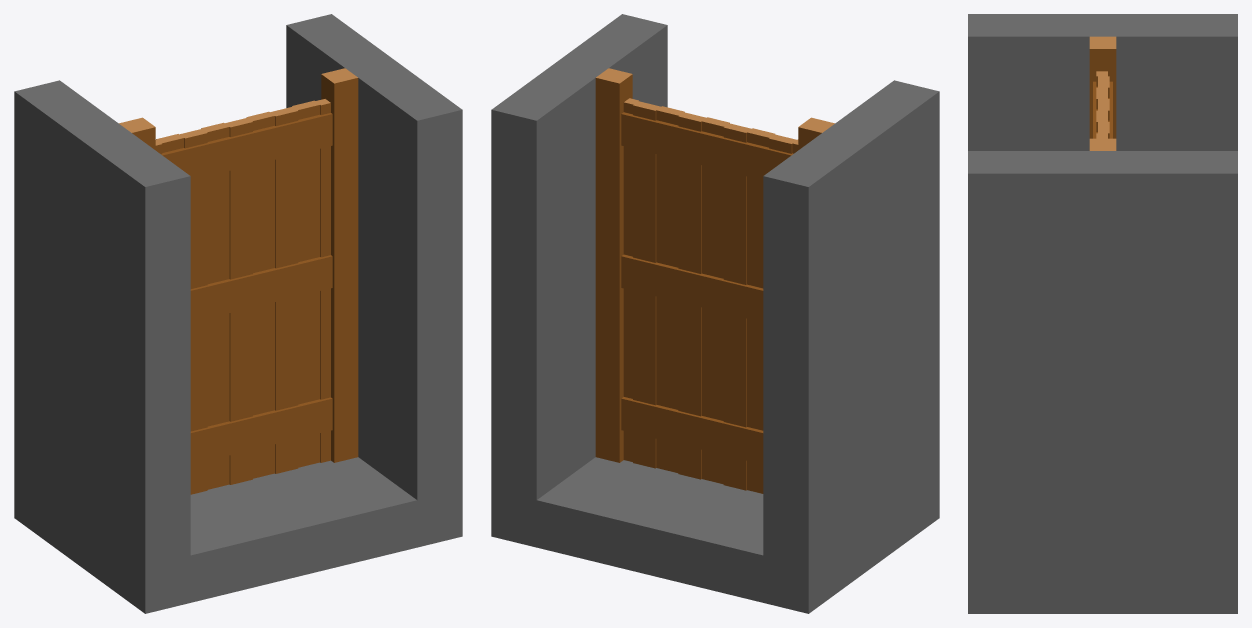
Rendered from Dungeon_Tiles_Modular_1x1_Wall_2_Stone_Barricade_Timber_01.fbx.
3 renders of one model, left to right at view 1: azimuth 30°, elevation 25°; view 2: azimuth 150°, elevation 25°; view 3: azimuth 270°, elevation 25°, orthographic. The views are drawn at different scales.
Visible parts, largest first — view 1: Dungeon_Tiles_Modular_1x1_Wall_2_Stone_Barricade_Timber_01; view 2: Dungeon_Tiles_Modular_1x1_Wall_2_Stone_Barricade_Timber_01; view 3: Dungeon_Tiles_Modular_1x1_Wall_2_Stone_Barricade_Timber_01.
Boxes of the visible parts, <box> form: Dungeon_Tiles_Modular_1x1_Wall_2_Stone_Barricade_Timber_01: <box>14,14,462,613</box>; Dungeon_Tiles_Modular_1x1_Wall_2_Stone_Barricade_Timber_01: <box>491,14,939,613</box>; Dungeon_Tiles_Modular_1x1_Wall_2_Stone_Barricade_Timber_01: <box>968,14,1237,613</box>.
Bounding box in the file's own units: 1422 × 1829 × 1016.
